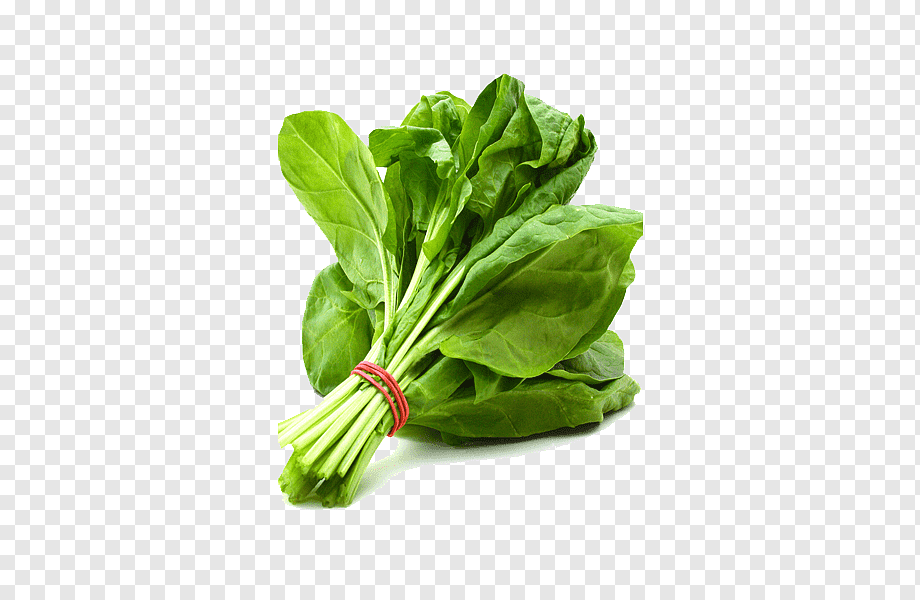Bayam: (218, 58, 671, 552)
